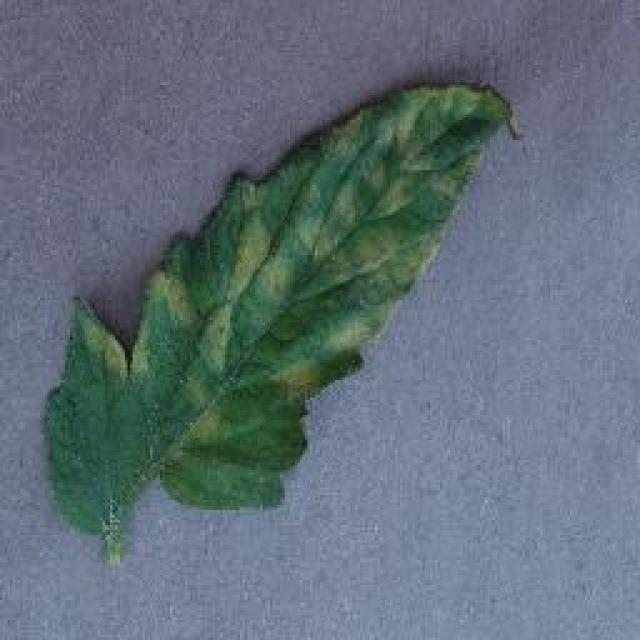Tomato___Leaf_Mold: (42, 85, 520, 568)
